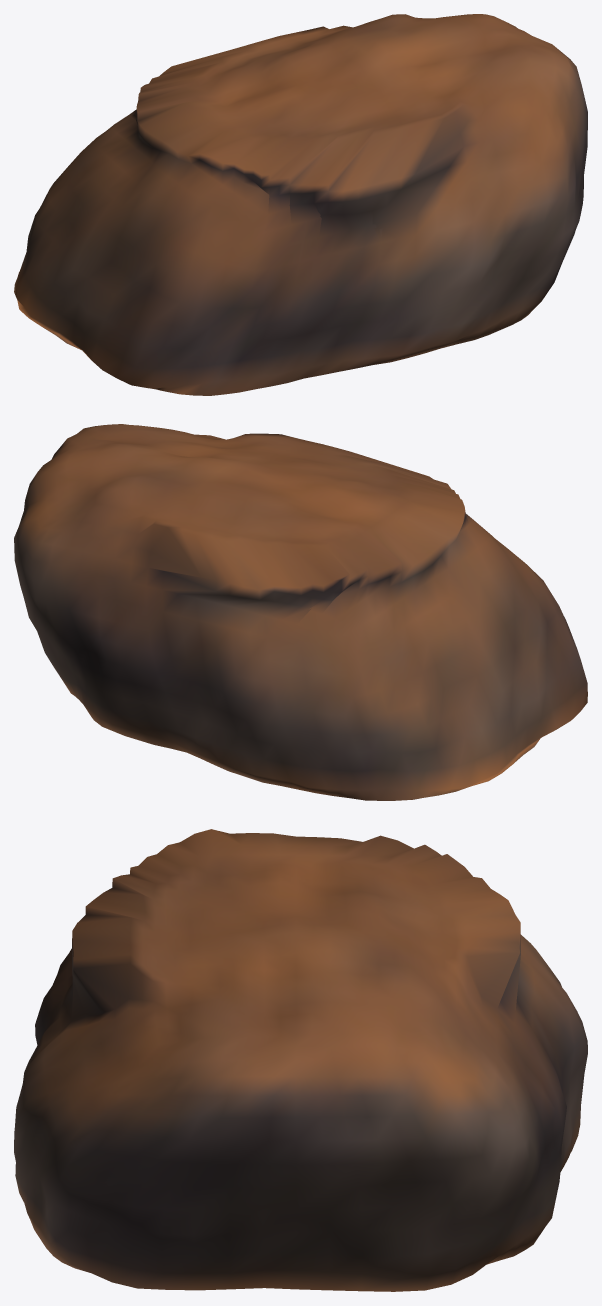
The model's file is shark.glb.
3 renders of one model, top to bottom at view 1: azimuth 30°, elevation 25°; view 2: azimuth 150°, elevation 25°; view 3: azimuth 270°, elevation 25°, orthographic. The views are drawn at different scales.
Visible parts, largest first — view 1: cover-shark; view 2: cover-shark; view 3: cover-shark.
Part boxes in pixels (x1=…): cover-shark: x1=14, y1=14, x2=587, y2=395; cover-shark: x1=14, y1=424, x2=587, y2=800; cover-shark: x1=14, y1=829, x2=587, y2=1291.
Size of the model in its own units: 0.2889 by 0.12 by 0.2157.
